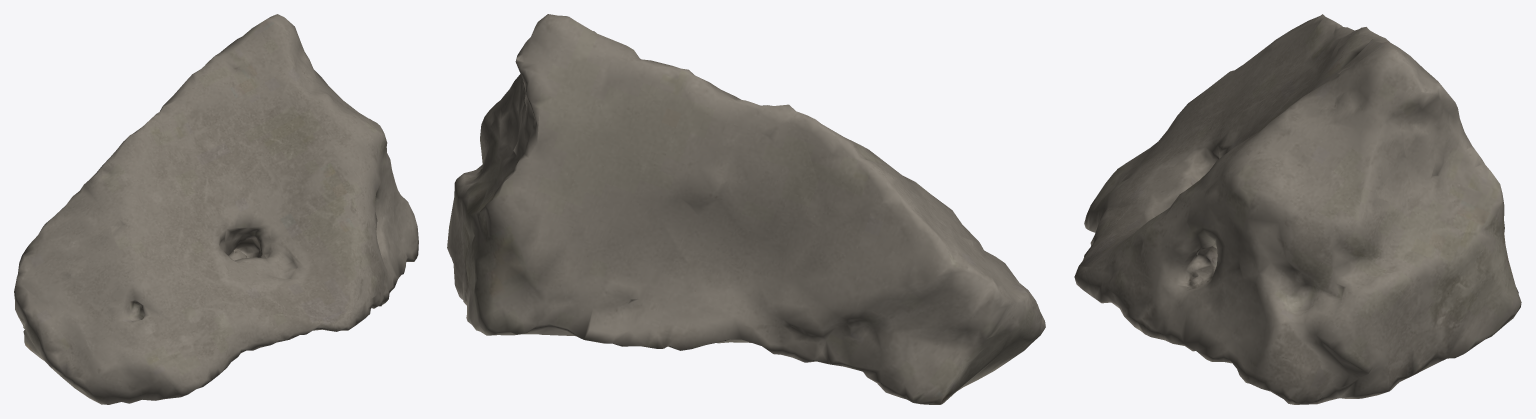
File: moon_rock_07.glb
3 views of the same model, side by side, from view 1: azimuth 30°, elevation 25°; view 2: azimuth 150°, elevation 25°; view 3: azimuth 270°, elevation 25° (orthographic). The views are drawn at different scales.
Visible parts, largest first — view 1: moon_rock_07_LOD0; view 2: moon_rock_07_LOD0; view 3: moon_rock_07_LOD0.
Part boxes in pixels (<box>): moon_rock_07_LOD0: <box>14,14,418,404</box>; moon_rock_07_LOD0: <box>447,14,1045,404</box>; moon_rock_07_LOD0: <box>1074,14,1521,404</box>.
Size of the model in its own units: 0.0968 by 0.0603 by 0.0738.
1 material, 1 textured.
